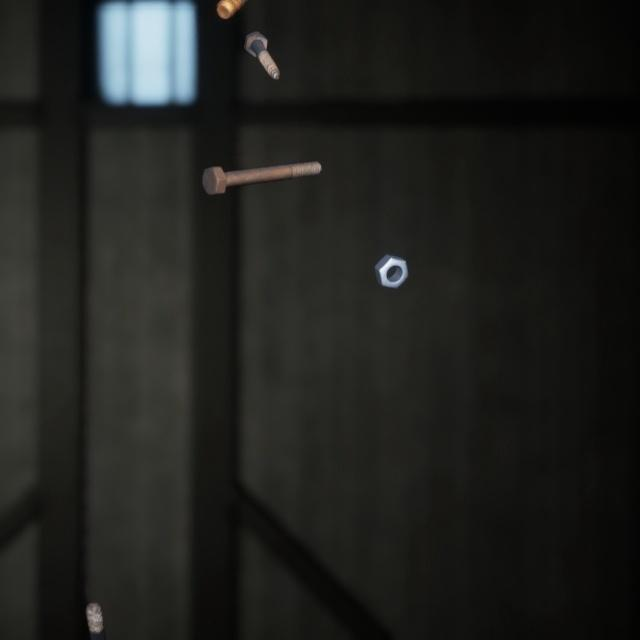bolt: (198, 142, 325, 185), (81, 573, 119, 640), (239, 17, 284, 73)
nut: (370, 234, 413, 277)
